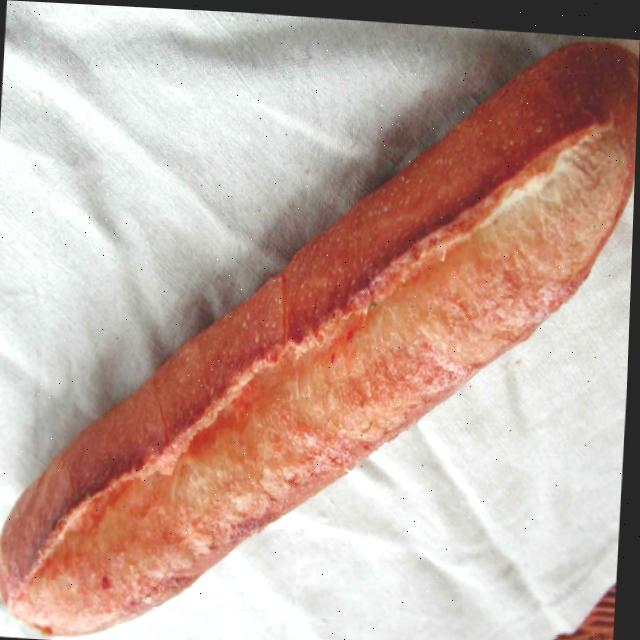面包点心: (0, 2, 640, 640)
